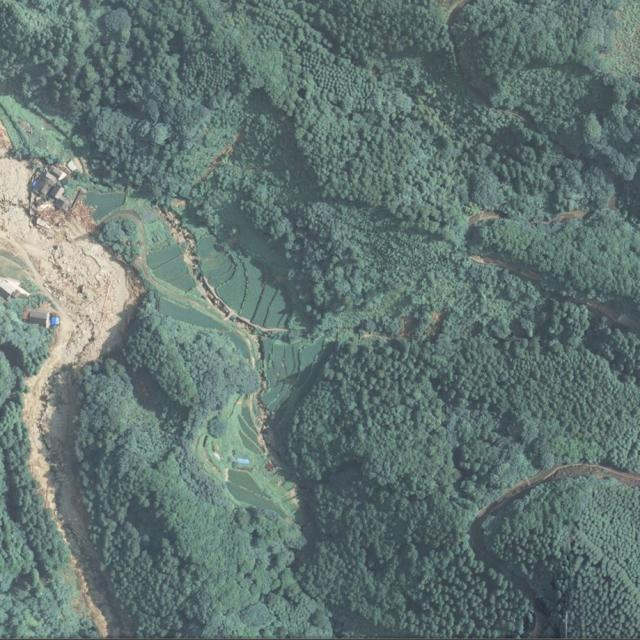landslide: (0, 138, 141, 637)
